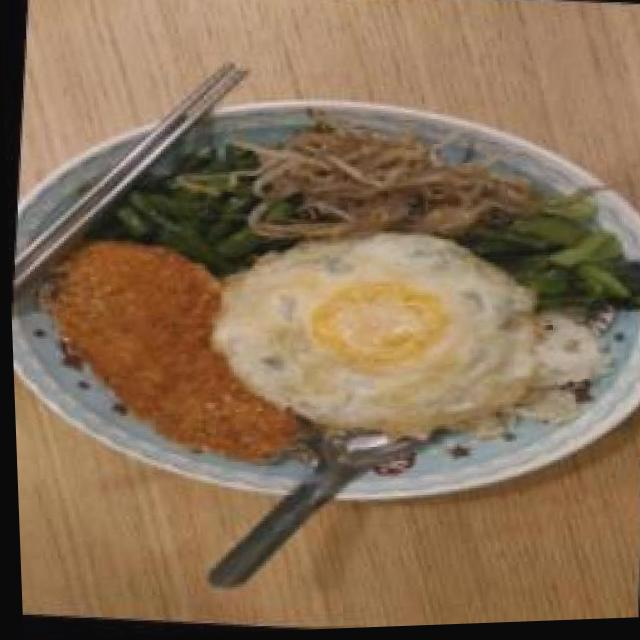fried_chicken: (45, 231, 322, 477)
fried_eggs: (199, 215, 543, 452)
mung_bean_sprouts: (244, 118, 516, 261)
